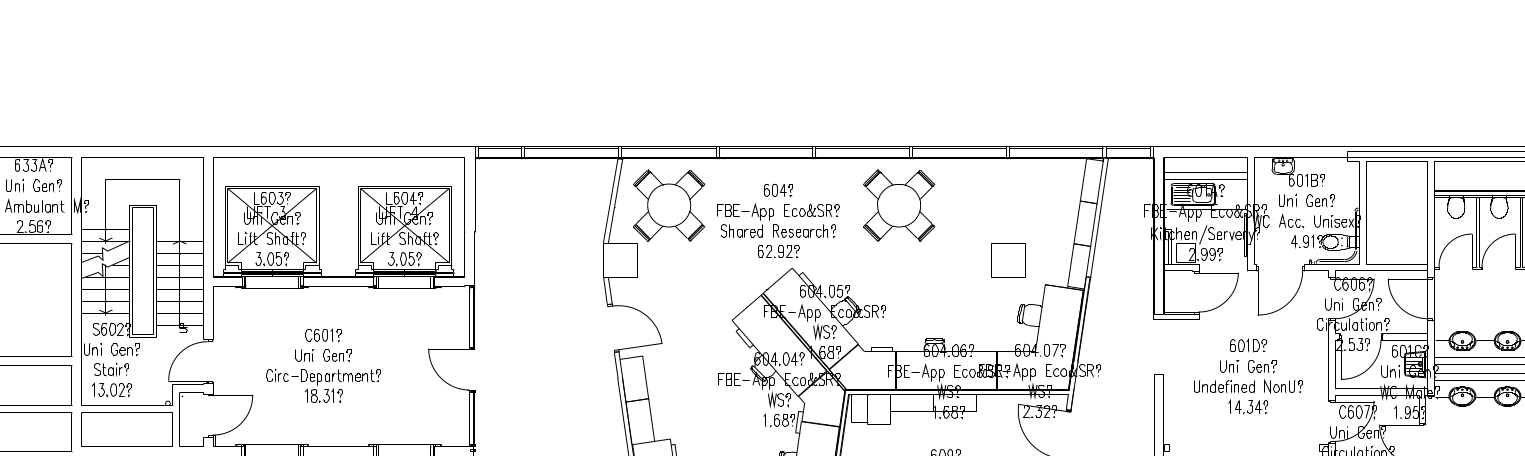door: (602, 298, 667, 359), (1178, 264, 1243, 325), (1373, 269, 1434, 329), (1249, 263, 1310, 323), (420, 345, 473, 397), (164, 338, 211, 384), (211, 390, 258, 436), (1435, 231, 1477, 279), (1477, 230, 1519, 278)
